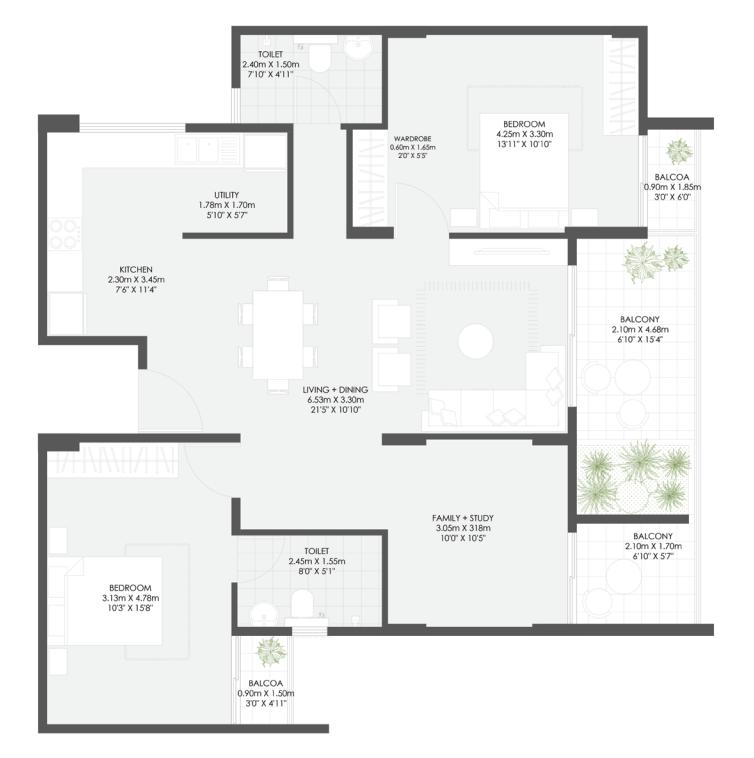Balcony: (569, 233, 702, 522), (576, 527, 697, 626)
Bed: (44, 557, 166, 645), (484, 114, 566, 235)
Bedroom: (43, 442, 227, 730), (390, 40, 641, 233)
Dining Room: (176, 239, 352, 431)
Dining table: (235, 274, 323, 397)
Kitchen: (49, 130, 173, 346)
Living Room: (348, 238, 568, 436)
Sofa: (424, 394, 570, 432), (365, 294, 418, 392), (530, 342, 567, 426)
Wardrobe: (44, 444, 177, 480), (354, 130, 389, 229), (604, 40, 639, 133)
balcoa: (643, 130, 697, 233), (238, 632, 291, 722)
door: (137, 370, 208, 428), (225, 529, 286, 584), (390, 179, 447, 237), (182, 442, 232, 502)
fridge: (49, 294, 88, 334)
kitchen-slab: (44, 131, 239, 167), (44, 127, 83, 291)
study: (386, 448, 574, 622)
toilet: (229, 527, 386, 632), (239, 34, 382, 121)
utility: (173, 138, 289, 234)
washing-machine: (248, 135, 288, 170)
